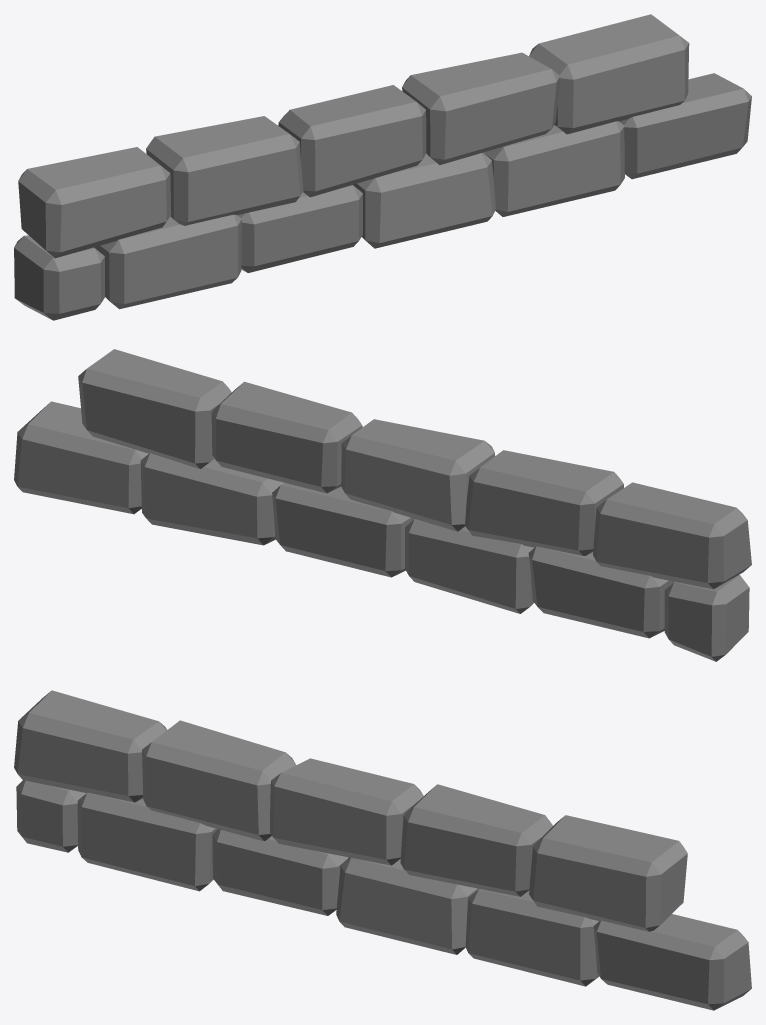
The model's file is BrickWall2mSection_01_End_R.fbx.
3 renders of one model, top to bottom at view 1: azimuth 30°, elevation 25°; view 2: azimuth 150°, elevation 25°; view 3: azimuth 330°, elevation 25°, orthographic.
Parts seen in each view (by area): view 1: BrickWall2mSection_01_End_R; view 2: BrickWall2mSection_01_End_R; view 3: BrickWall2mSection_01_End_R.
Boxes of the visible parts, x1,y1,x2,y2 form: BrickWall2mSection_01_End_R: (14,14,751,320); BrickWall2mSection_01_End_R: (14,349,751,661); BrickWall2mSection_01_End_R: (14,690,751,1010).
Size of the model in its own units: 222 by 41.78 by 21.66.
